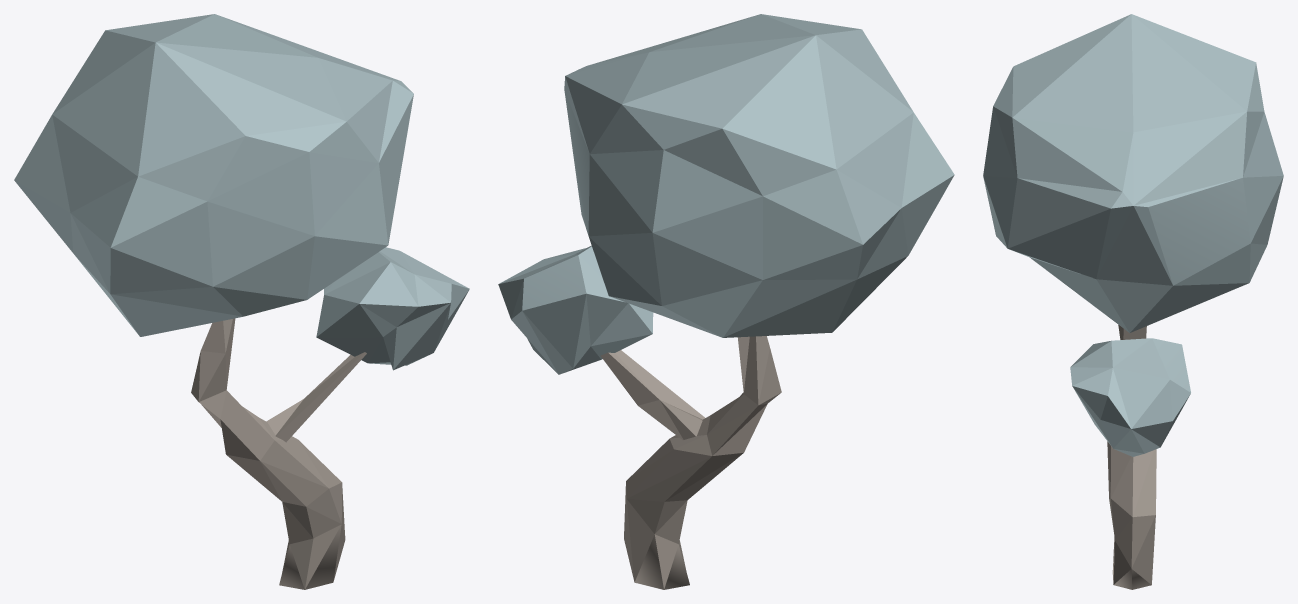
Rendered from Tree_01.fbx.
3 views of the same model, side by side, from view 1: azimuth 30°, elevation 25°; view 2: azimuth 150°, elevation 25°; view 3: azimuth 270°, elevation 25° (orthographic). The views are drawn at different scales.
Visible parts, largest first — view 1: Tree_01; view 2: Tree_01; view 3: Tree_01.
Boxes of the visible parts, <box> form: Tree_01: <box>14,14,469,589</box>; Tree_01: <box>498,14,954,589</box>; Tree_01: <box>983,14,1283,589</box>.
Bounding box in the file's own units: 1387 × 1863 × 1015.
